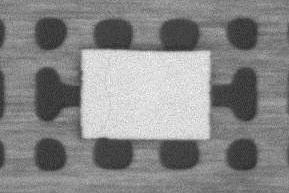DIE_CRACK: (94, 73, 112, 134)
